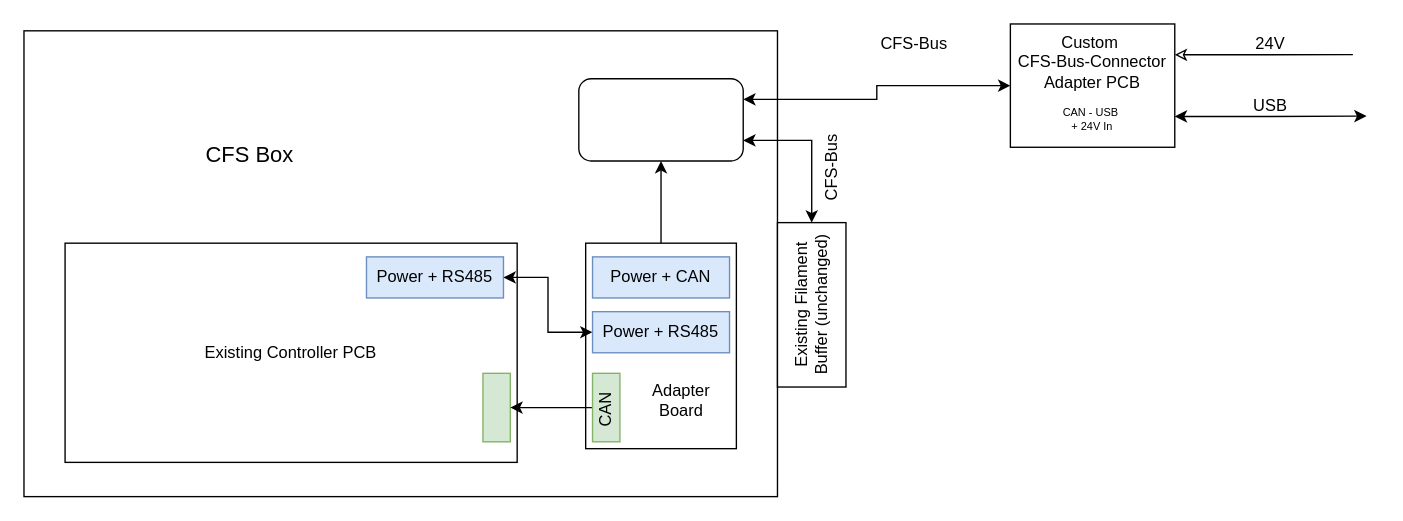
The diagram is 1403 pixels wide and 521 high, and some of its shapes have lost their labels. The shapes that lost their labels are listed below. From the top down, each one's centre as x and y in pixels, then its label:
At pixel 660 119: "Existing Rear-Panel Connector".
At pixel 496 407: "Unused".
